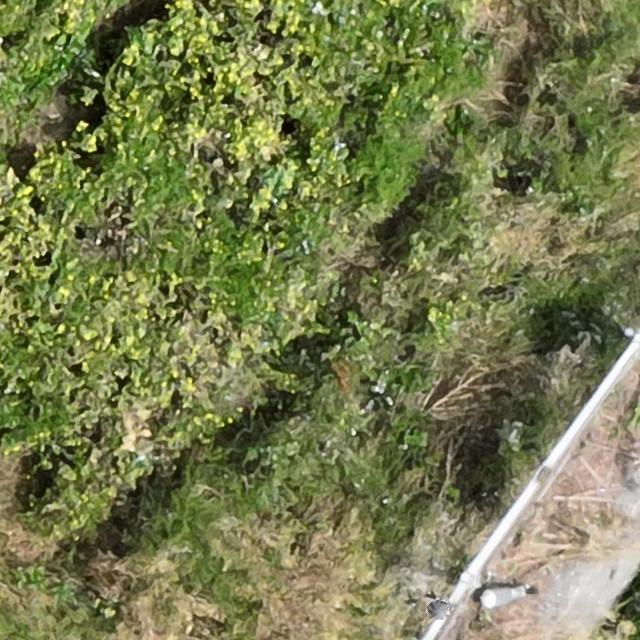umineko: (484, 587, 520, 606)
